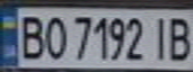1: (90, 12, 109, 61)
2: (124, 14, 148, 61)
7: (69, 12, 93, 61)
9: (106, 14, 127, 61)
B: (15, 11, 48, 61), (163, 14, 193, 62)
I: (148, 14, 172, 62)
O: (39, 12, 69, 61)
